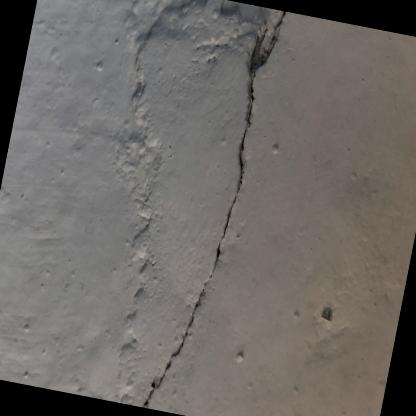crack: (137, 10, 286, 408)
